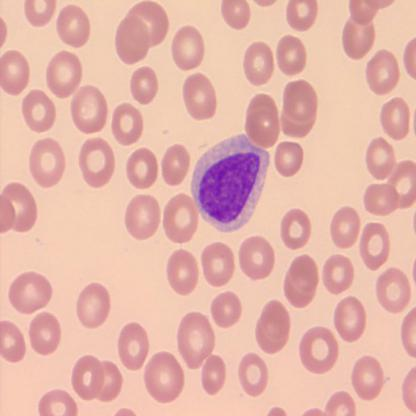Myelocyte: (194, 141, 267, 229)
